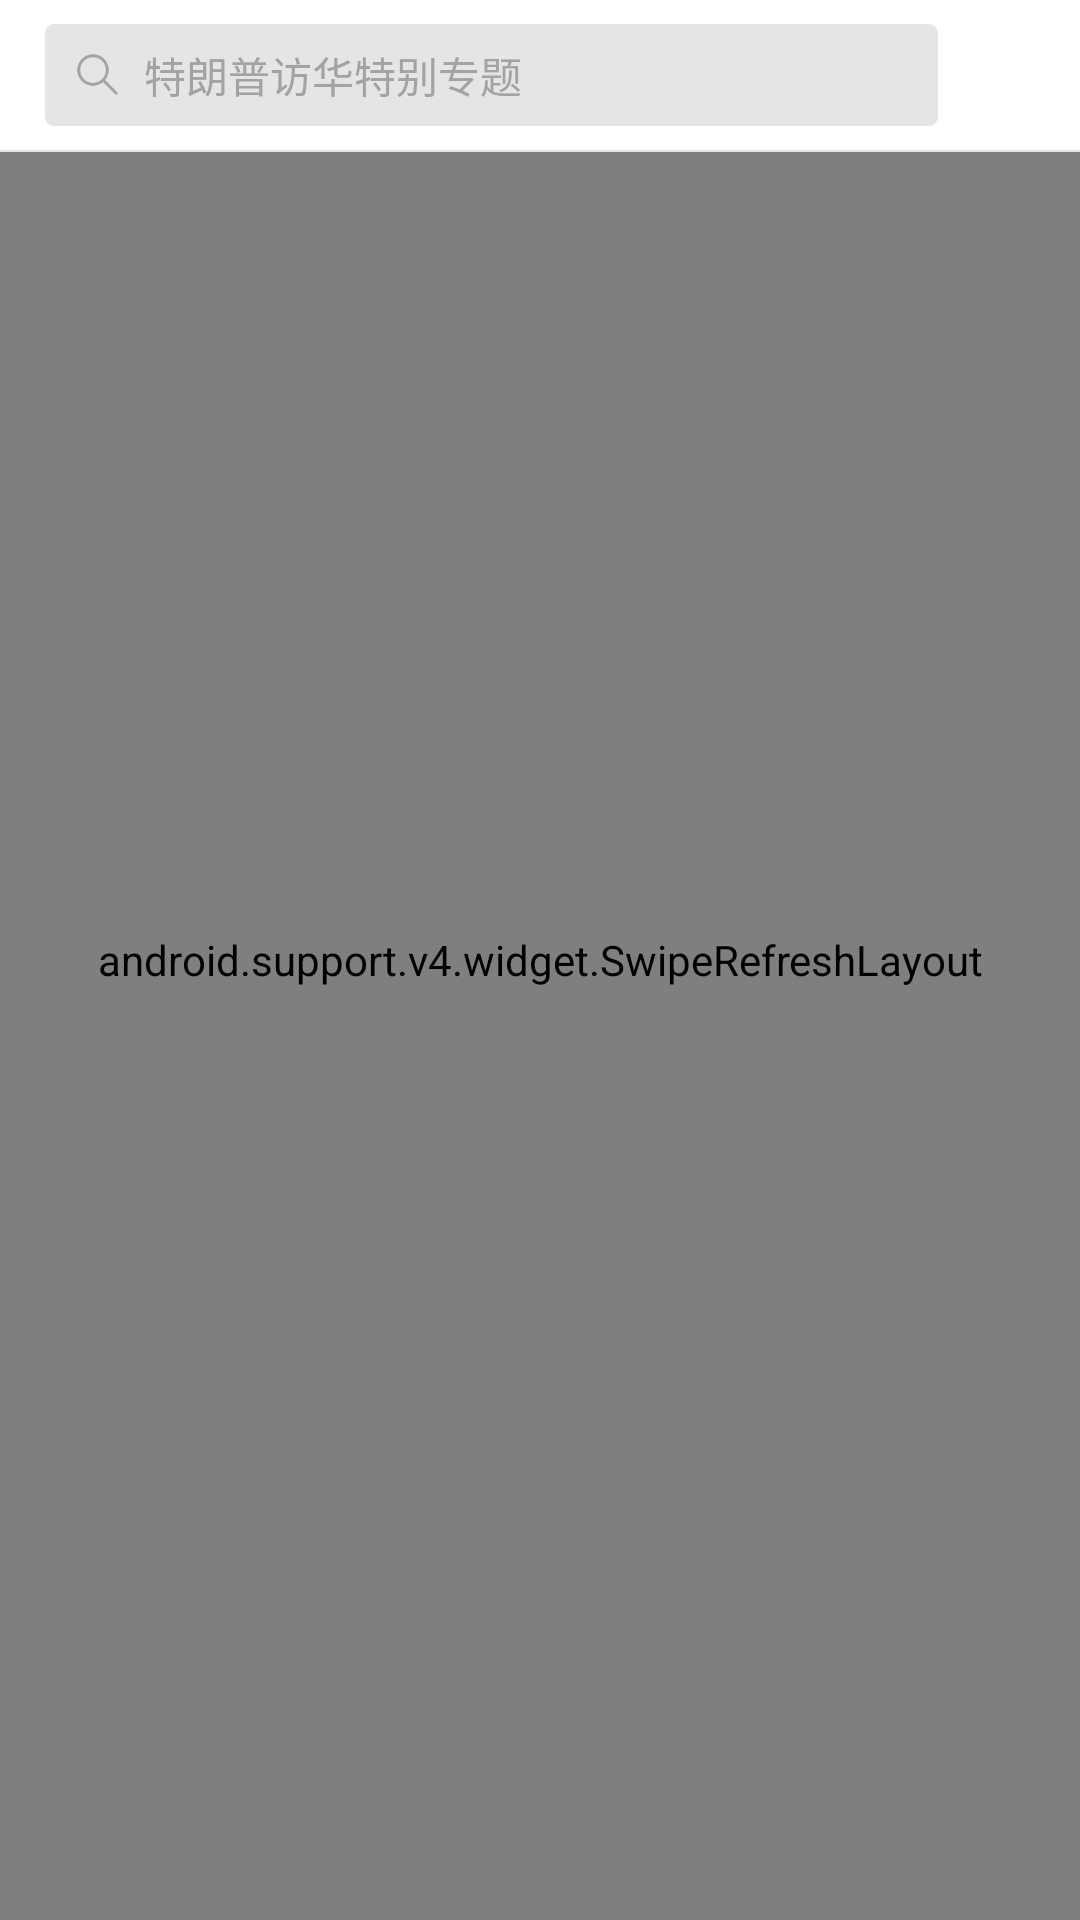

Icons on this 1080×1920 Android screen, each with its box as [x1, y1, x2, y2]:
search: [77, 54, 118, 95]
